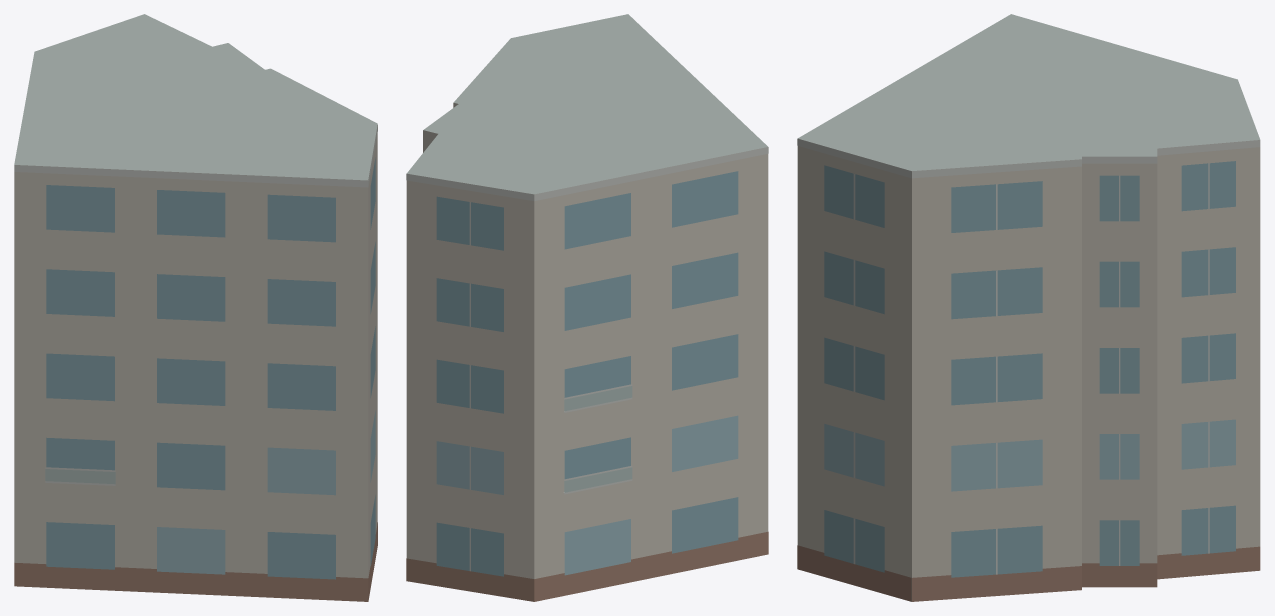
Rendered from survey-upis-32476802.glb.
3 renders of one model, left to right at view 1: azimuth 30°, elevation 25°; view 2: azimuth 150°, elevation 25°; view 3: azimuth 270°, elevation 25°, orthographic. The views are drawn at different scales.
Visible parts, largest first — view 1: survey-upis-32476802.tmp; view 2: survey-upis-32476802.tmp; view 3: survey-upis-32476802.tmp.
Boxes of the visible parts, x1,y1,x2,y2 form: survey-upis-32476802.tmp: (14, 14, 377, 601); survey-upis-32476802.tmp: (406, 14, 768, 601); survey-upis-32476802.tmp: (797, 14, 1260, 601).
Bounding box in the file's own units: 11.42 × 14.59 × 14.22.
